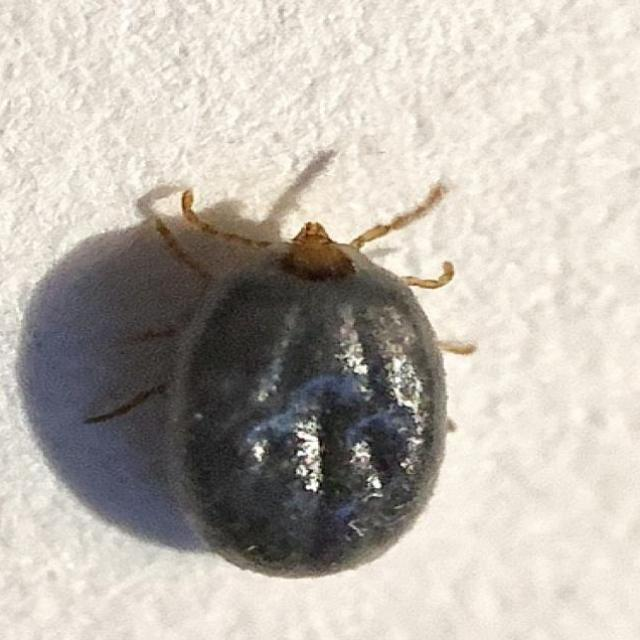Rhipicephalus Sanguineus-F-Fed: (87, 183, 478, 585)
